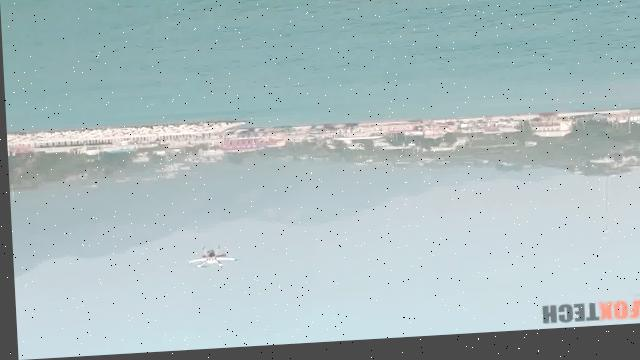drone: (175, 240, 239, 278)
